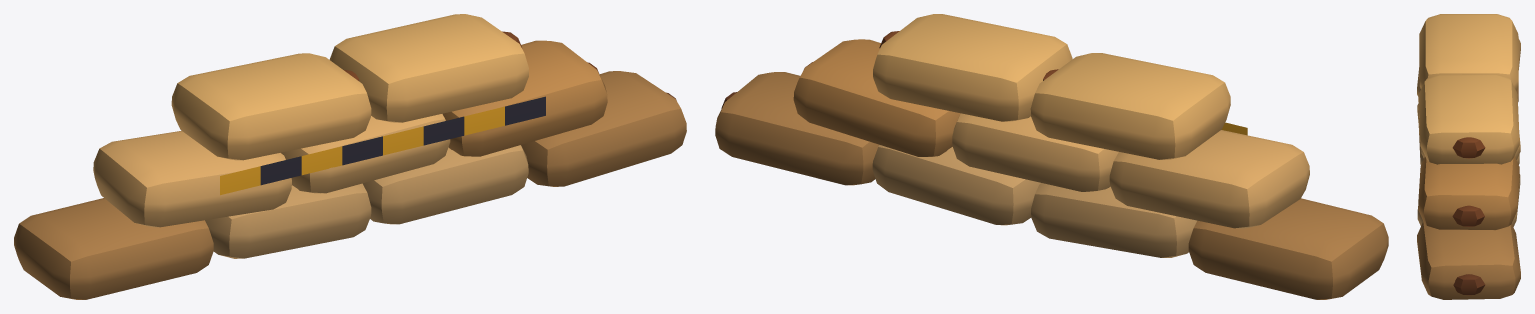
The model's file is sandbags.glb.
3 views of the same model, side by side, from view 1: azimuth 30°, elevation 25°; view 2: azimuth 150°, elevation 25°; view 3: azimuth 270°, elevation 25° (orthographic). The views are drawn at different scales.
Parts seen in each view (by area): view 1: sandbags; view 2: sandbags; view 3: sandbags.
Boxes of the visible parts, <box> form: sandbags: <box>14,14,686,299</box>; sandbags: <box>715,14,1388,299</box>; sandbags: <box>1417,14,1520,299</box>.
Bounding box in the file's own units: 2.43 × 0.5901 × 0.4402.
